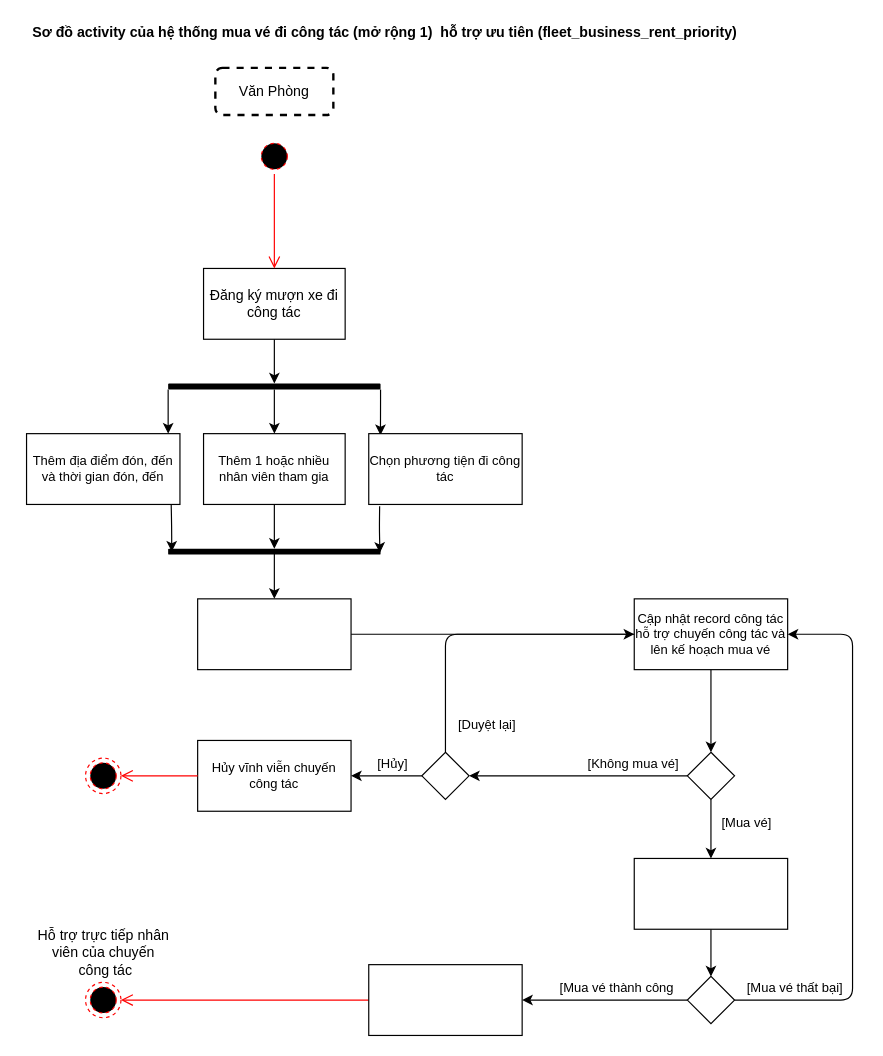
Image size: 883x1056. Some labels were removed from this diagram. Each missing label, with the centre of its shape:
Gửi mail đến các nhân viên và chuyên viên tham dự công tác: (x=445, y=999)
Tạo thành công record công tác trên database (chưa duyệt): (x=273, y=634)
Văn phòng tiến hành mua vé cho chuyến công tác: (x=710, y=893)
